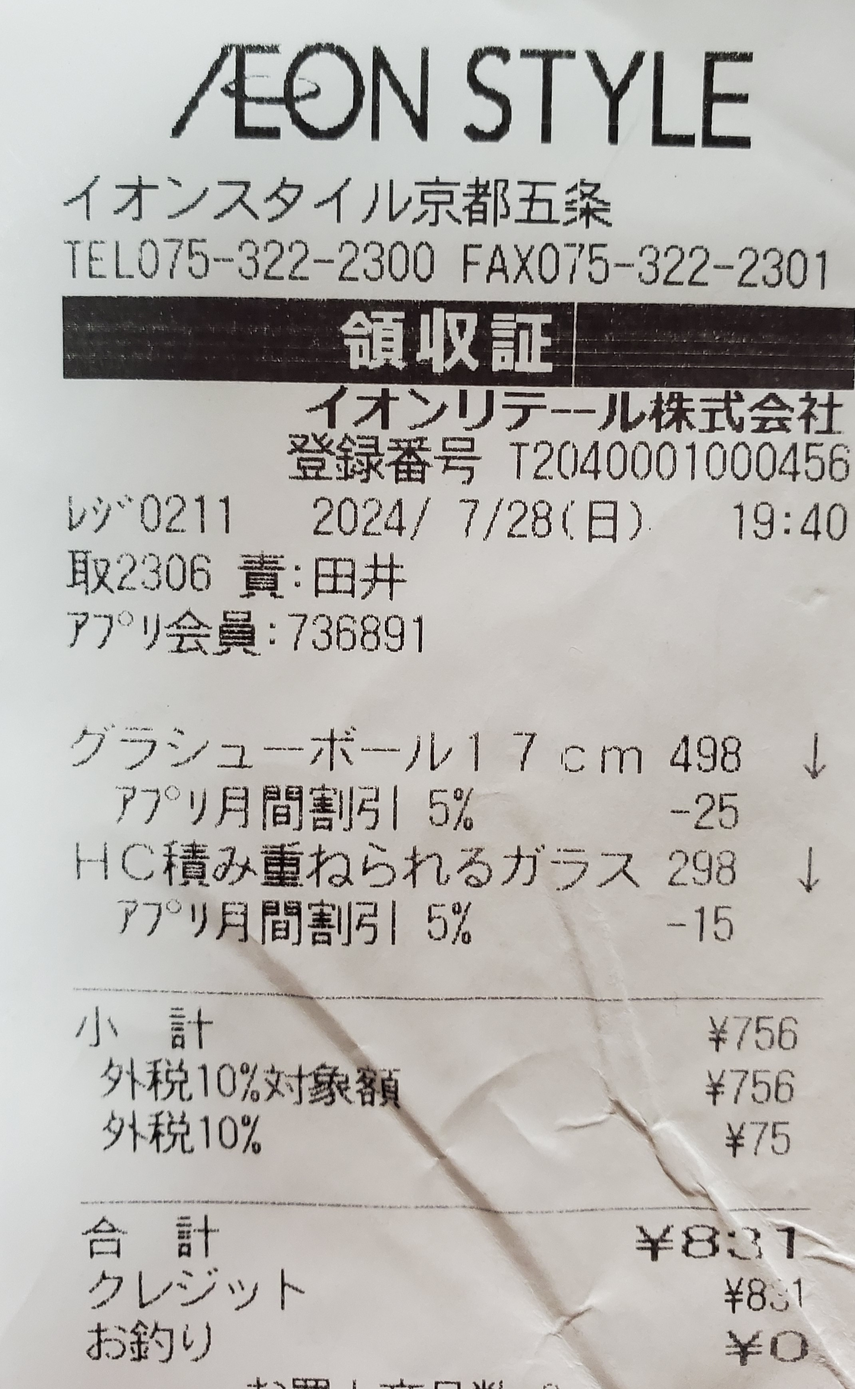Date: (302, 492, 564, 548)
Shopname: (127, 24, 776, 164)
Telnum: (133, 228, 442, 294)
Totalpay: (73, 1209, 818, 1273)
